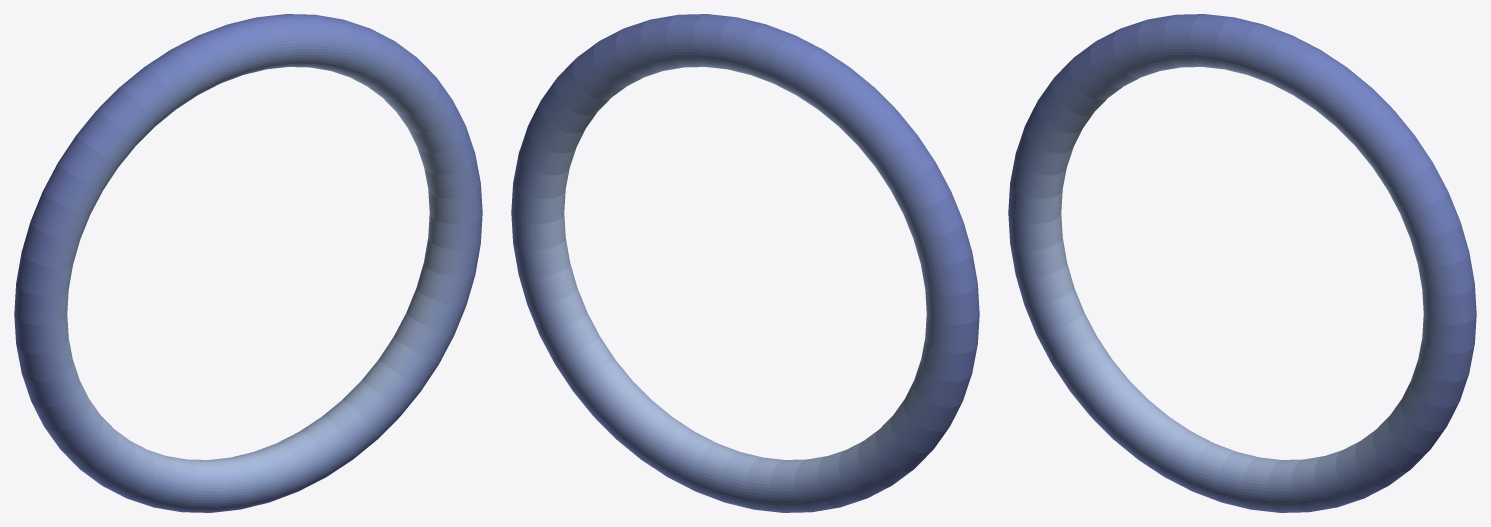
3 views of the same model, side by side, from view 1: azimuth 30°, elevation 25°; view 2: azimuth 150°, elevation 25°; view 3: azimuth 330°, elevation 25° (orthographic).
Parts seen in each view (by area): view 1: world; view 2: world; view 3: world.
Part boxes in pixels (x1,y1,x2,y2): world: (14, 14, 482, 512); world: (511, 14, 979, 512); world: (1008, 14, 1476, 512).
Size of the model in its own units: 28.13 by 28.08 by 2.79.
